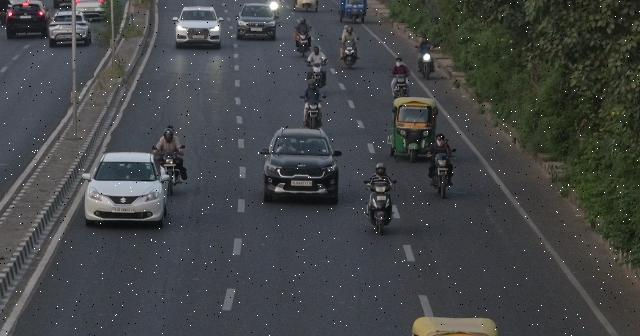With Helmet: (163, 129, 175, 143), (375, 163, 387, 177), (308, 78, 316, 90)
Without Helmet: (436, 134, 446, 148), (396, 57, 402, 68), (312, 47, 320, 55)
